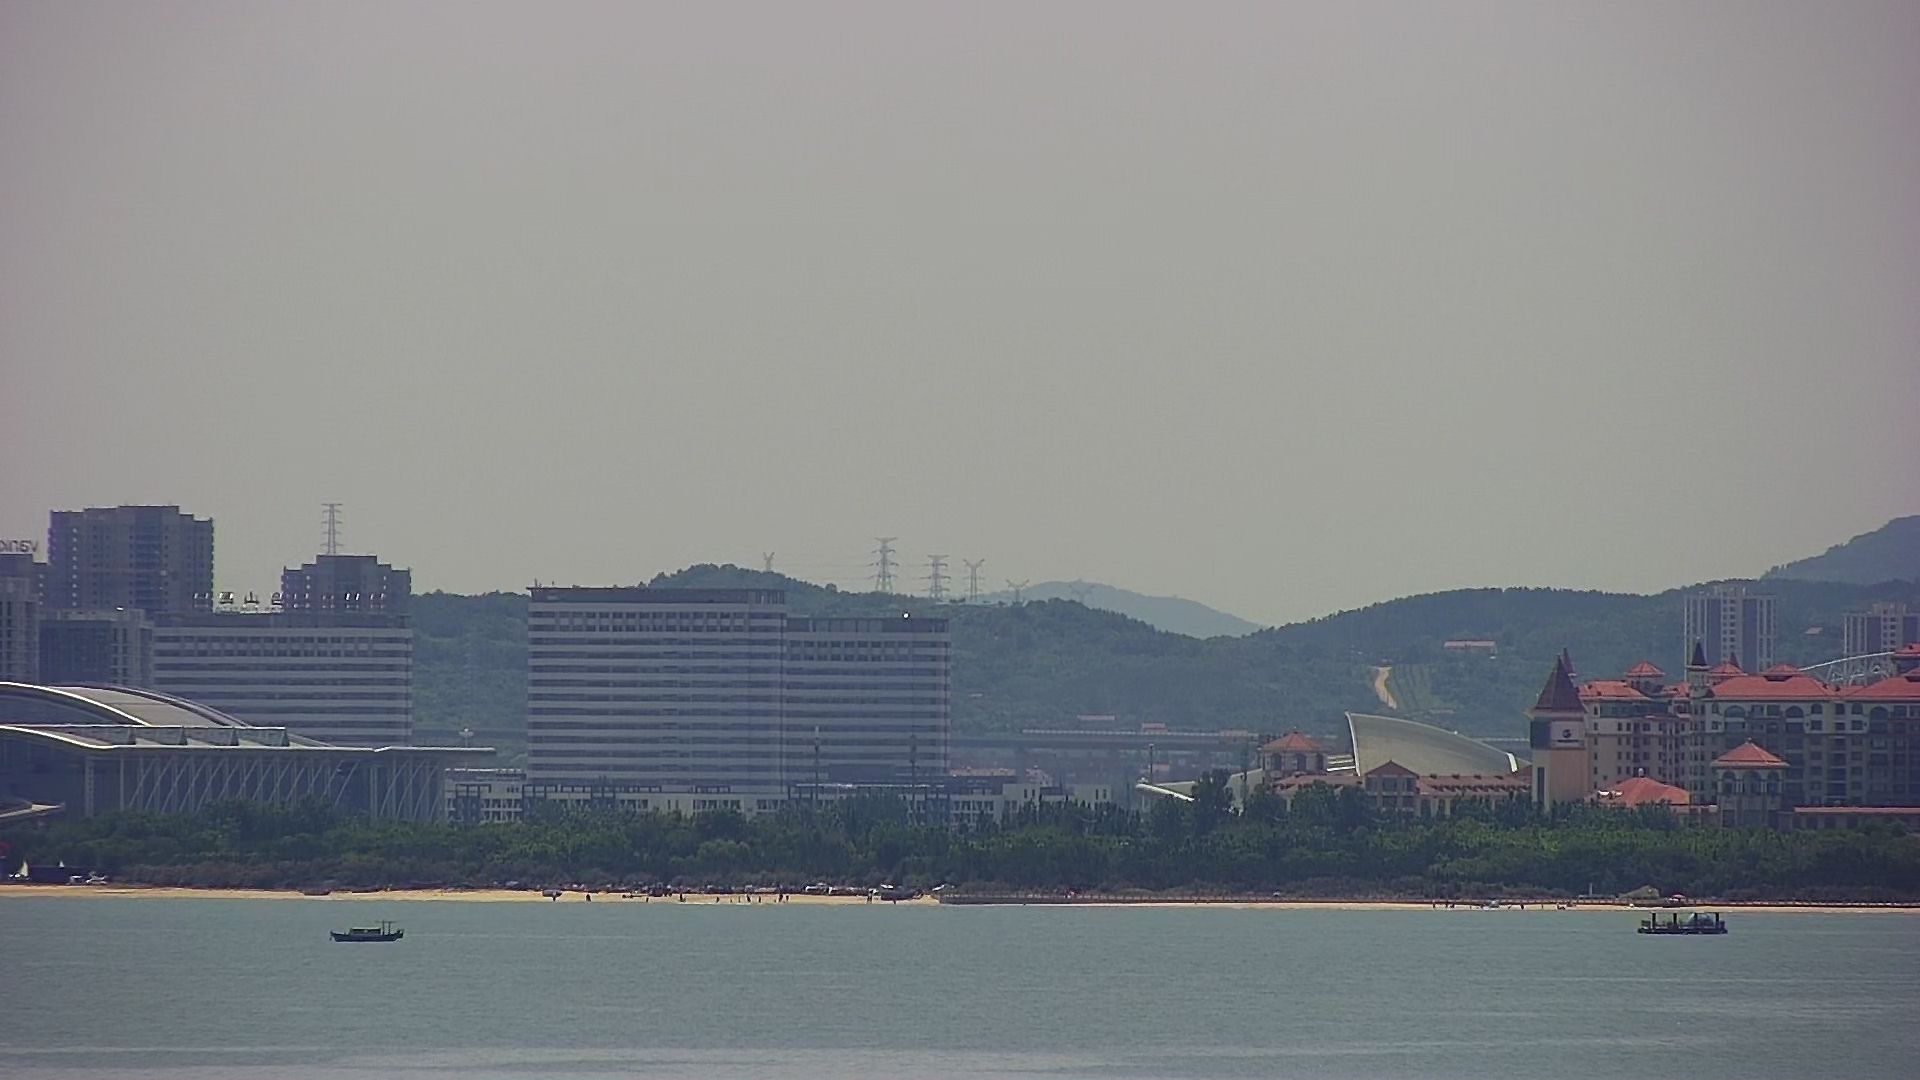boat: (1633, 909, 1731, 938), (320, 916, 411, 945)
